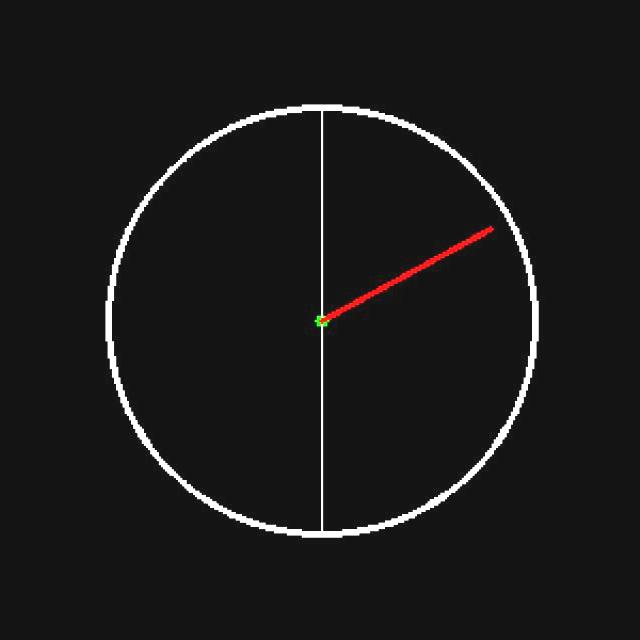Needle_Tip: (443, 191, 526, 266)
Needle_base: (298, 297, 362, 360)
